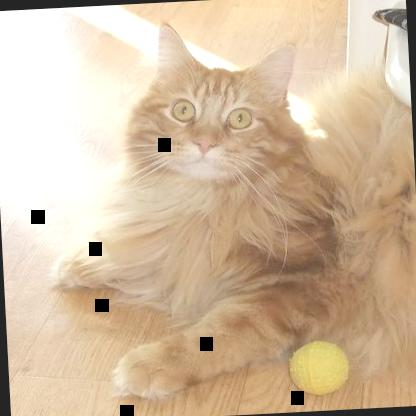cat: (49, 6, 415, 403)
